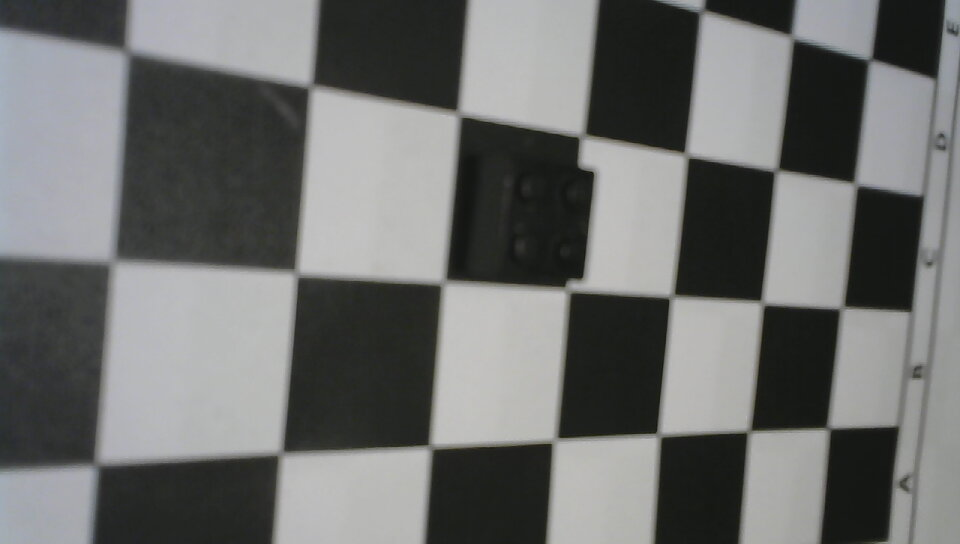bp: (462, 150, 603, 290)
